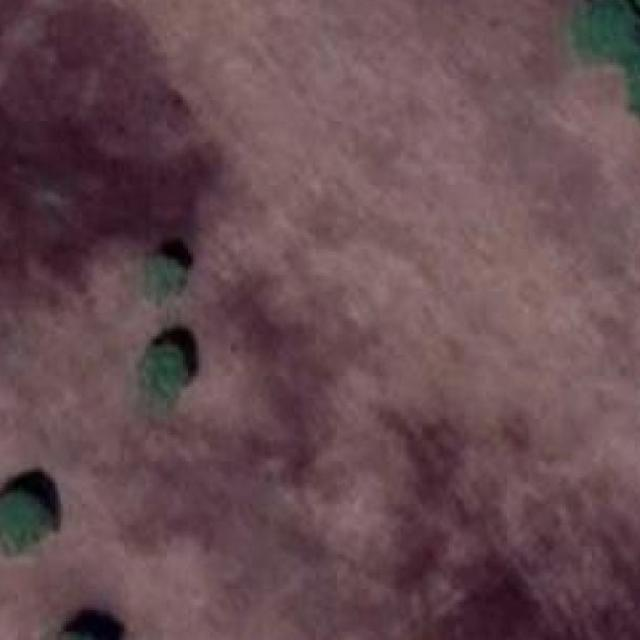Tree: (573, 0, 640, 63), (135, 342, 188, 399), (0, 490, 48, 552), (143, 256, 188, 297), (629, 39, 640, 114), (47, 631, 108, 640)
